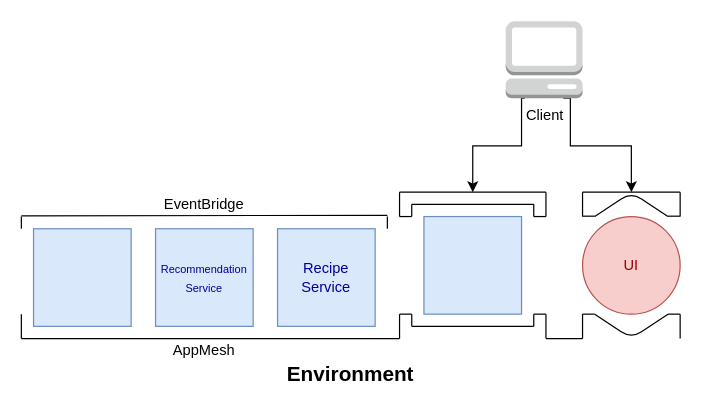
This 703x409 diagram has some shape labels left out. Here are the shapes that lost their labels. From the top down, the centre of each, then its label:
(81,277): Search Service
(472,264): Backend-For-Frontend Service (client api)
